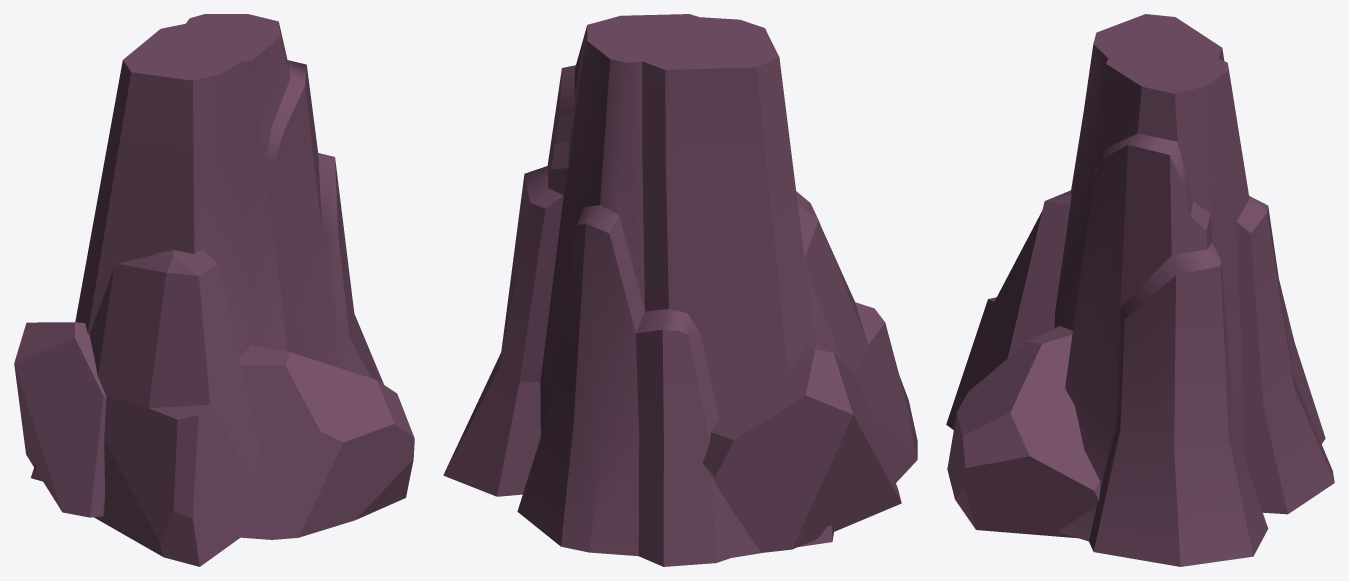
File: mdl_rockCliff02.fbx
3 views of the same model, side by side, from view 1: azimuth 30°, elevation 25°; view 2: azimuth 150°, elevation 25°; view 3: azimuth 270°, elevation 25° (orthographic). The views are drawn at different scales.
Visible parts, largest first — view 1: mdl_rockCliff03; view 2: mdl_rockCliff03; view 3: mdl_rockCliff03.
Part boxes in pixels (left/top/right/bottom): mdl_rockCliff03: left=14, top=14, right=414, bottom=566; mdl_rockCliff03: left=443, top=14, right=917, bottom=566; mdl_rockCliff03: left=946, top=14, right=1334, bottom=566.
Size of the model in its own units: 295 by 319 by 263.
1 material, 1 textured.
